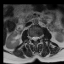CCS_normal: (34, 34, 36, 43)
LFS_normal: (38, 34, 41, 40)
LLS_normal: (36, 34, 38, 42)
RFS_normal: (30, 34, 32, 40)
RLS_normal: (32, 34, 34, 41)
